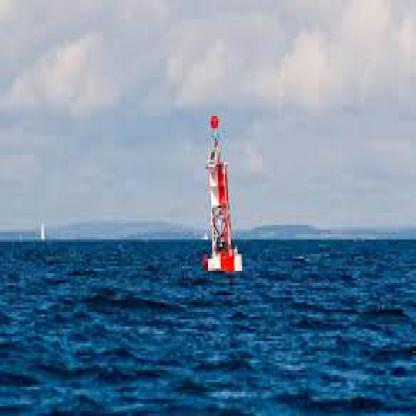buoy: (198, 102, 251, 290)
